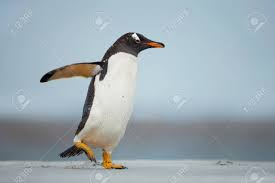Walking: (28, 18, 172, 178)
